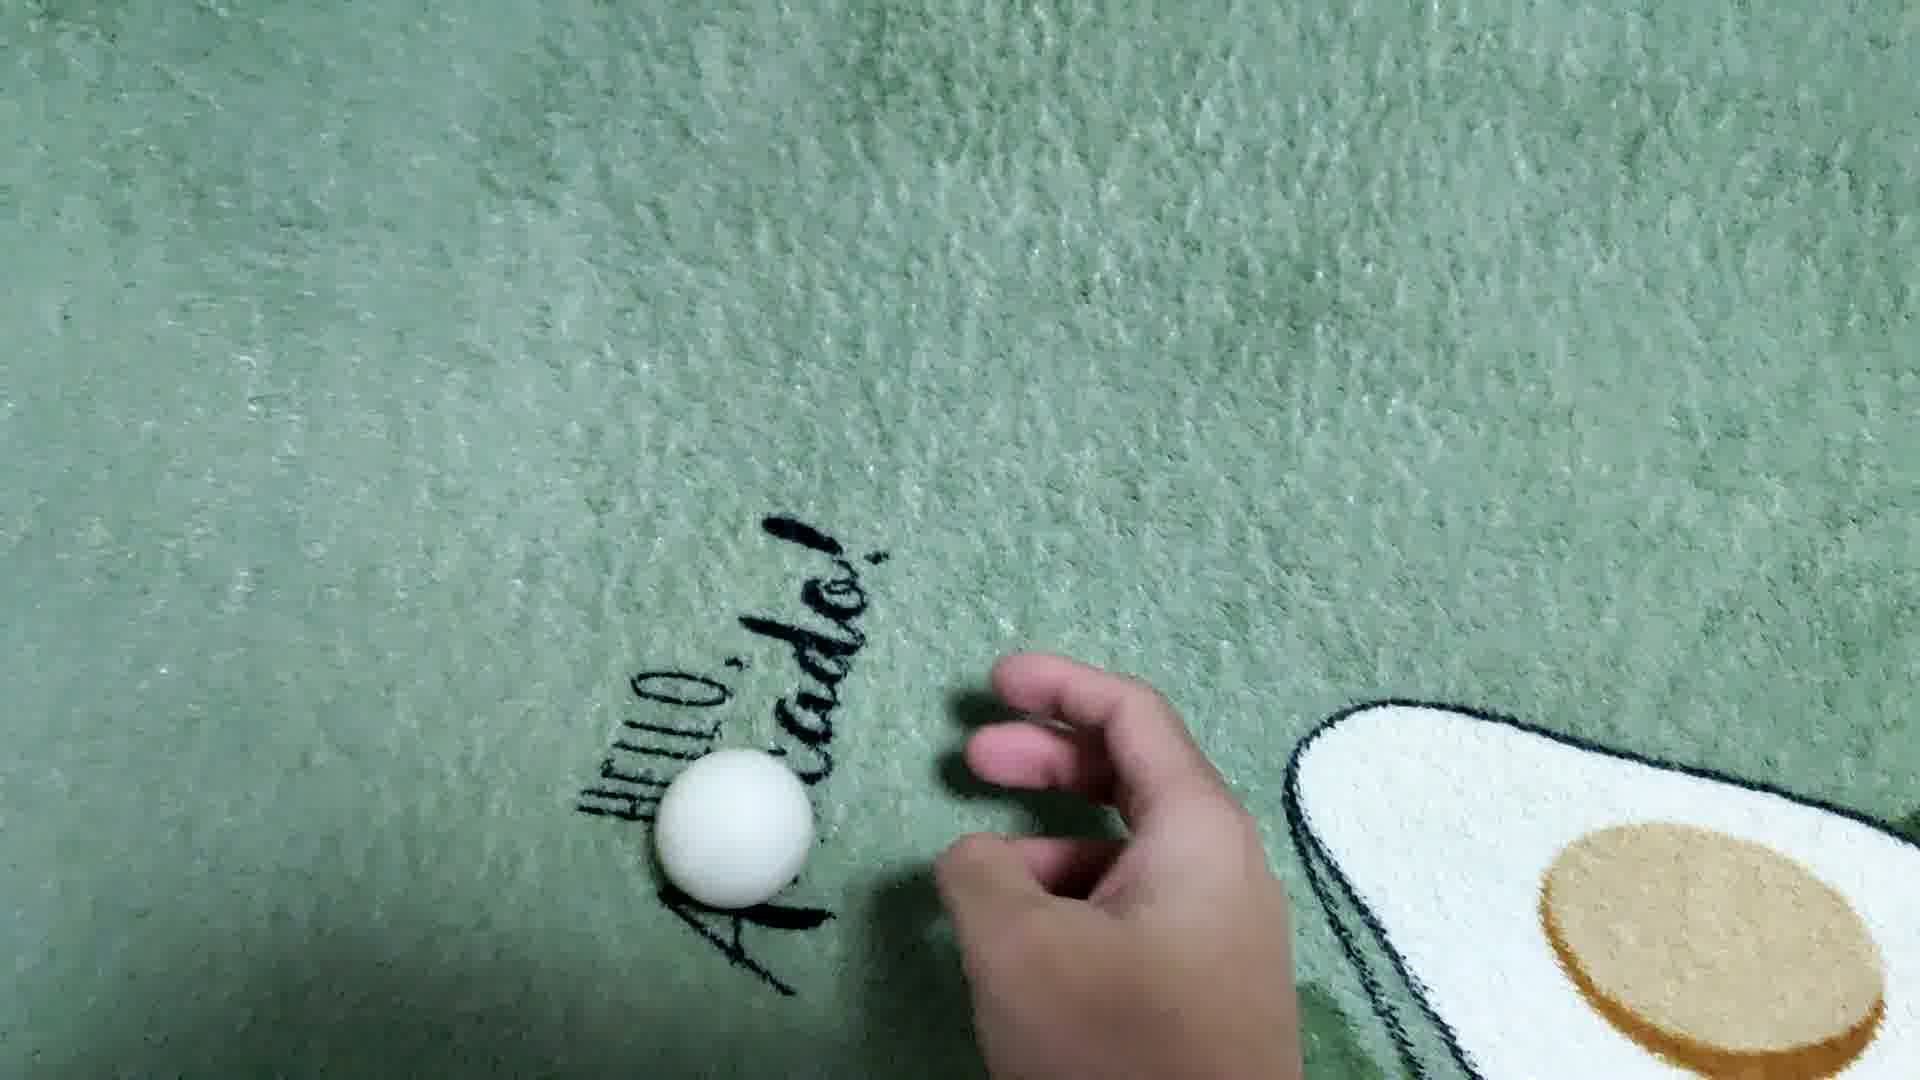Ball: (655, 748, 814, 906)
